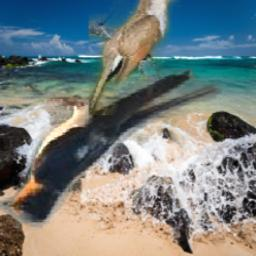Cuckoo: (89, 0, 184, 116)
Swallow: (0, 70, 222, 232)
